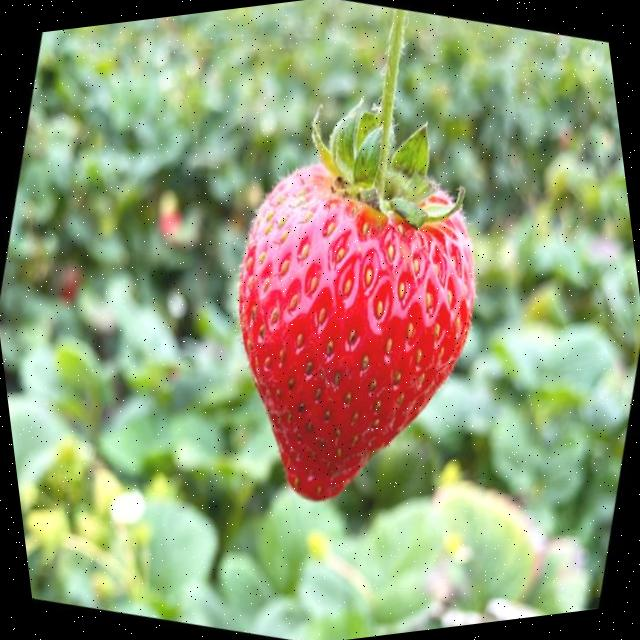strawberry: (238, 11, 475, 498)
